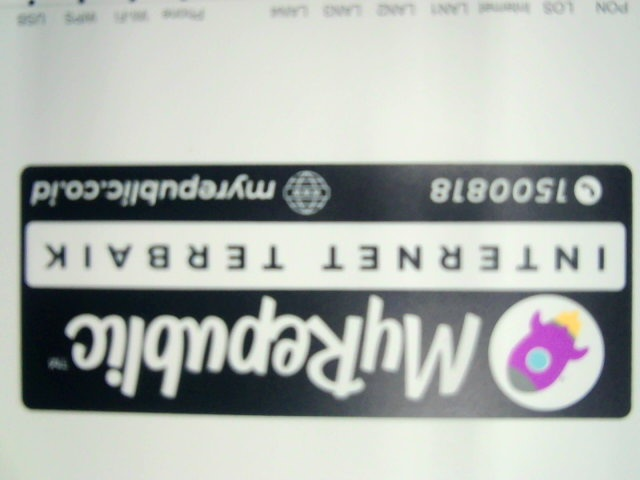BD_MyRepublic: (16, 156, 633, 421)
